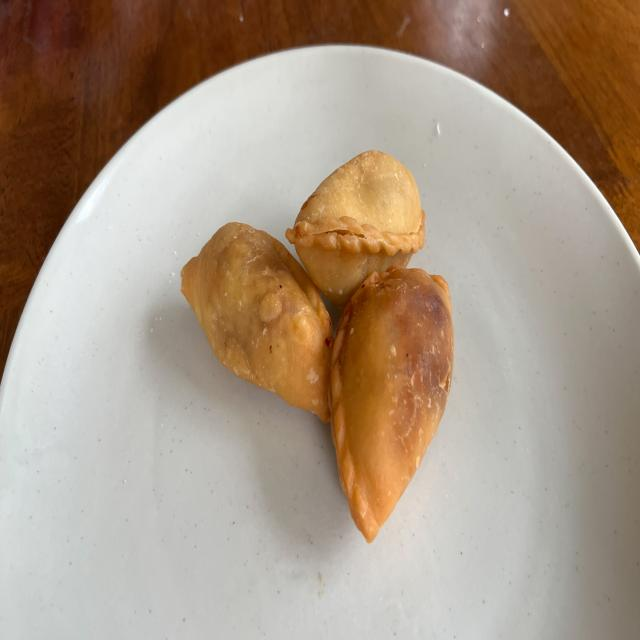karipap: (329, 264, 454, 542), (181, 222, 334, 422), (286, 151, 425, 307)
